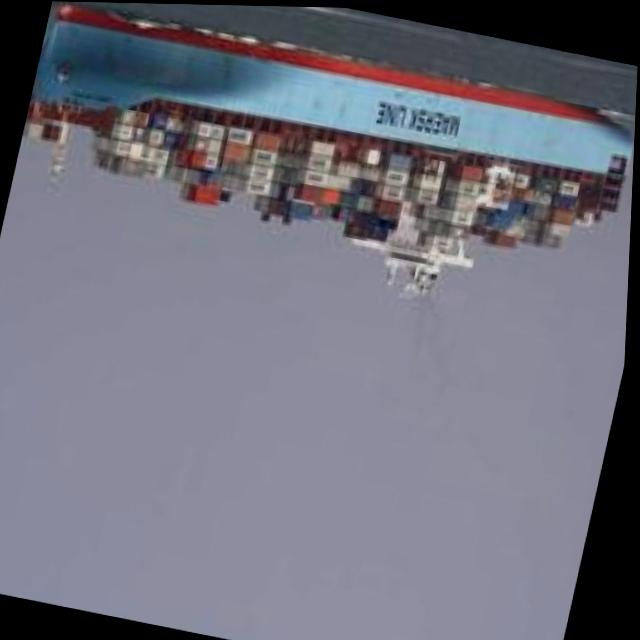ship2: (23, 1, 636, 293)
